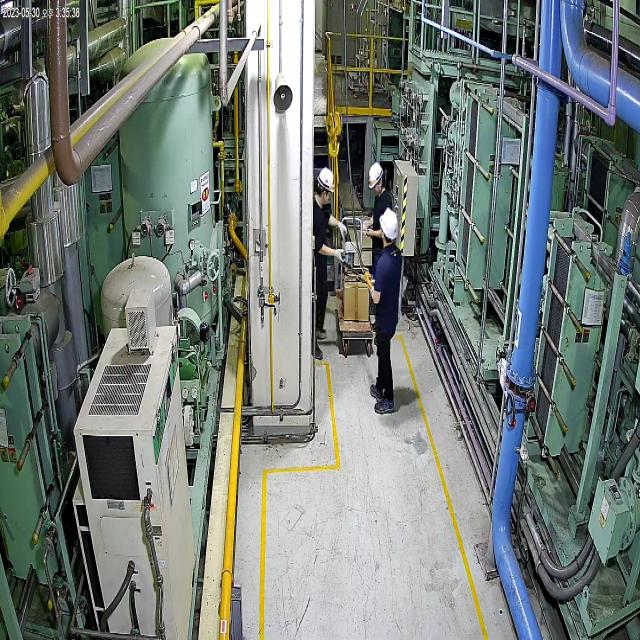worker: (364, 202, 414, 424), (306, 162, 352, 364), (362, 158, 402, 340)
